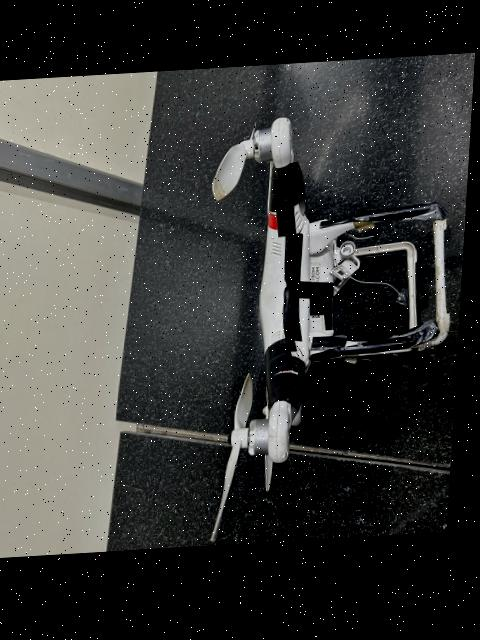drone: (184, 78, 475, 545)
